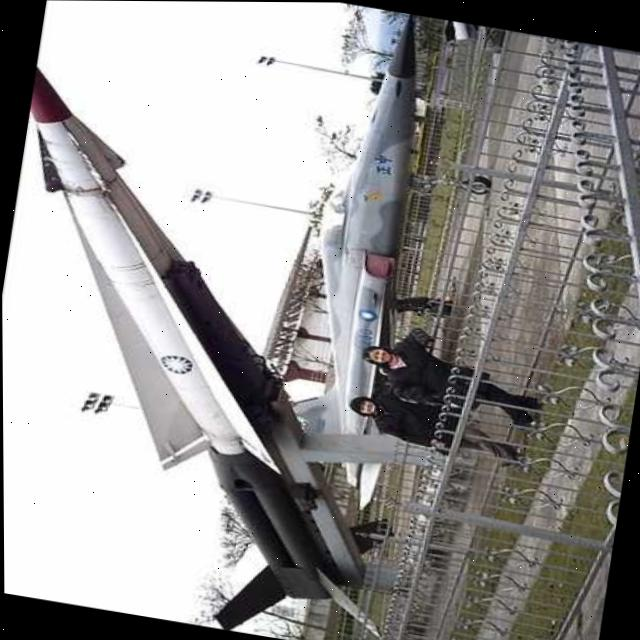missile: (0, 58, 459, 640)
